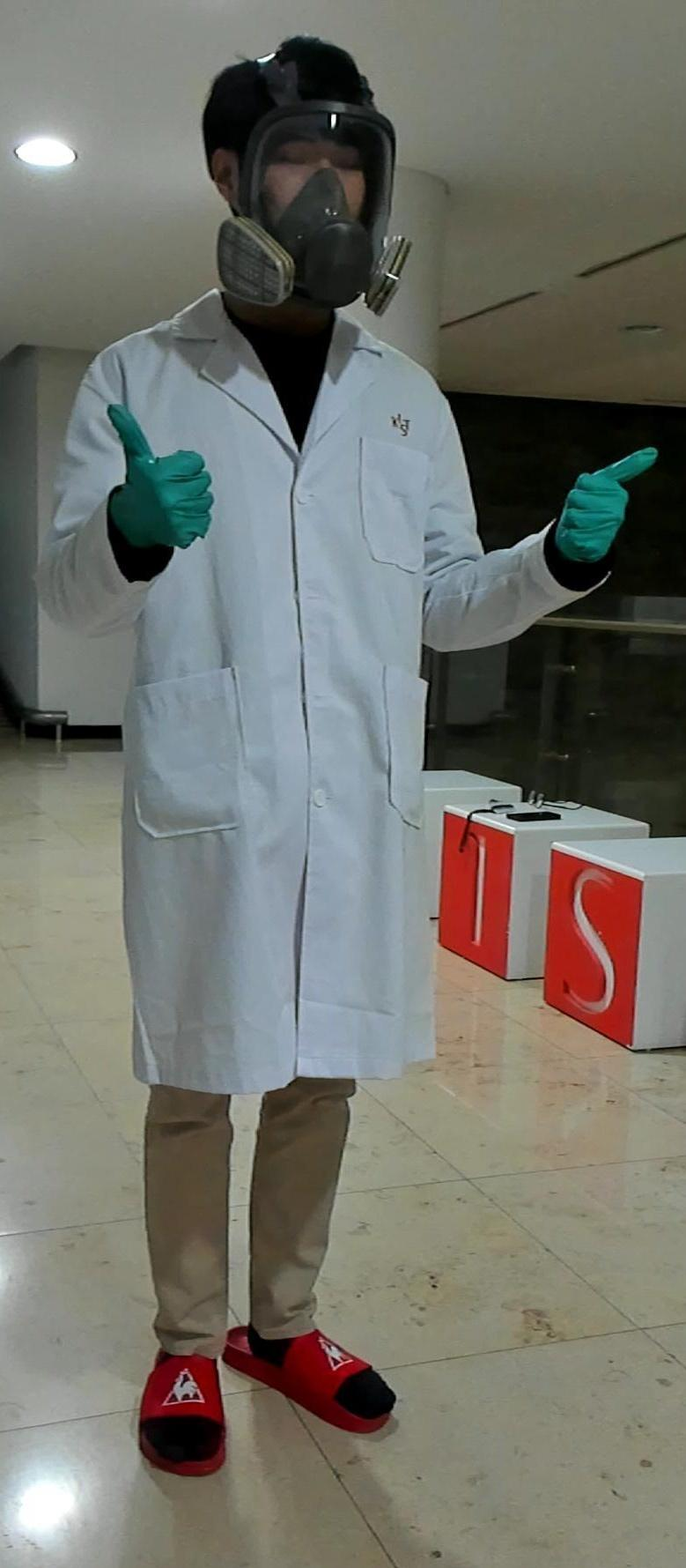Lab_coat: (35, 285, 611, 1096)
